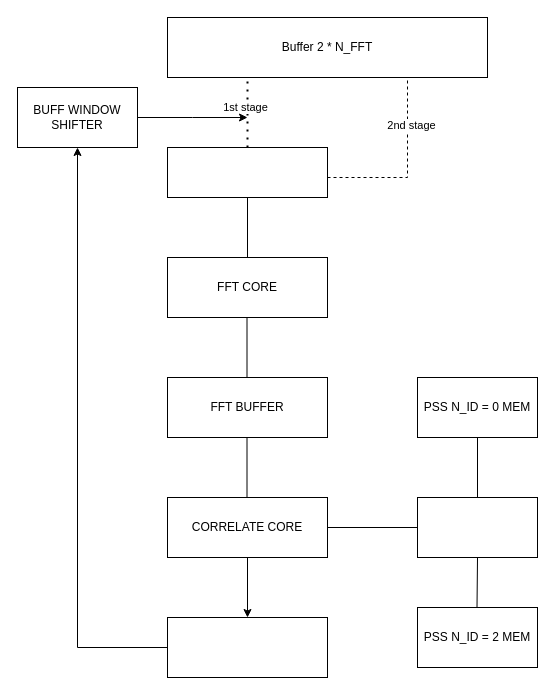
Image size: 555x695. Some labels were removed from this diagram. Here are the shapes that lost their labels. From the top down, the box of each, then its label:
(166, 146, 328, 198): FFT_BUFF
(416, 496, 538, 558): PSS N_ID = 1 MEM
(166, 616, 328, 678): WINDOW CONTROL
